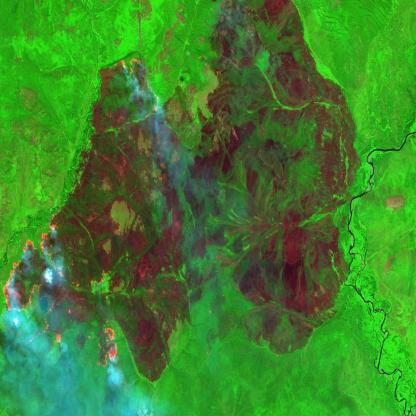fire: (1, 206, 120, 372), (113, 53, 162, 120)
